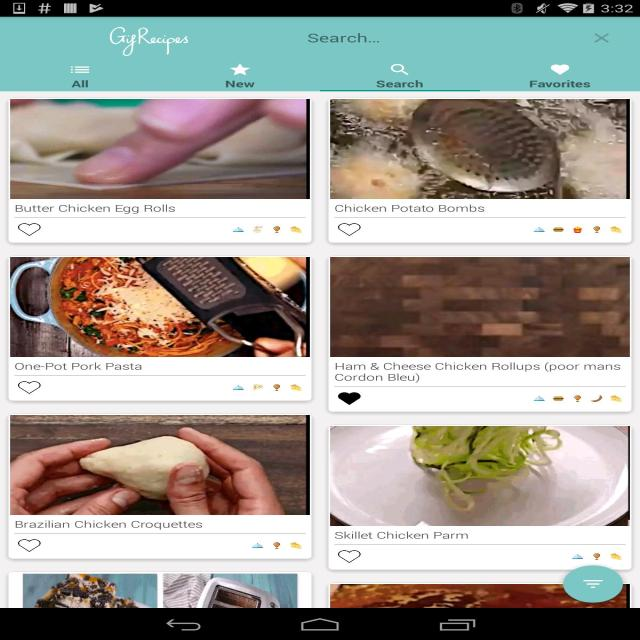button: (331, 256, 630, 412), (10, 413, 310, 560), (331, 98, 633, 244), (10, 99, 312, 244), (331, 425, 632, 570), (10, 257, 310, 401), (8, 572, 312, 608), (331, 585, 630, 609), (317, 61, 481, 90), (500, 60, 634, 92), (19, 58, 140, 92), (188, 60, 298, 91), (564, 565, 622, 602), (334, 220, 364, 238), (15, 378, 43, 395), (16, 220, 42, 238), (336, 390, 363, 407), (16, 538, 42, 554), (590, 30, 614, 45), (338, 549, 362, 564)
field: (299, 19, 628, 49)
heading: (106, 24, 191, 57)
image: (331, 257, 631, 358), (11, 257, 311, 357), (10, 415, 309, 515), (11, 100, 308, 200), (332, 100, 628, 200), (331, 427, 628, 525), (22, 573, 299, 610), (331, 585, 629, 608), (530, 222, 628, 236), (528, 392, 626, 405), (232, 222, 305, 236), (229, 381, 305, 394), (242, 538, 306, 552), (570, 550, 626, 562)
label: (305, 30, 381, 44)
text: (331, 359, 622, 384), (12, 518, 204, 531), (334, 202, 486, 216), (14, 202, 177, 214), (9, 360, 146, 373), (334, 530, 470, 542)
